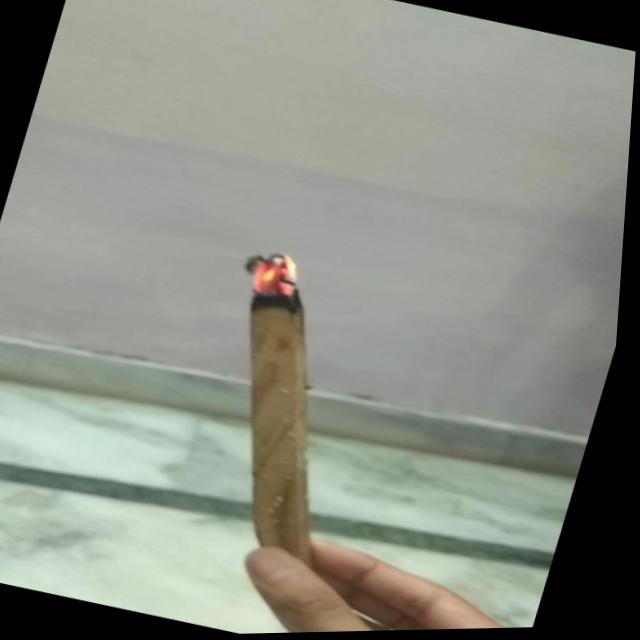fire: (224, 241, 329, 310)
